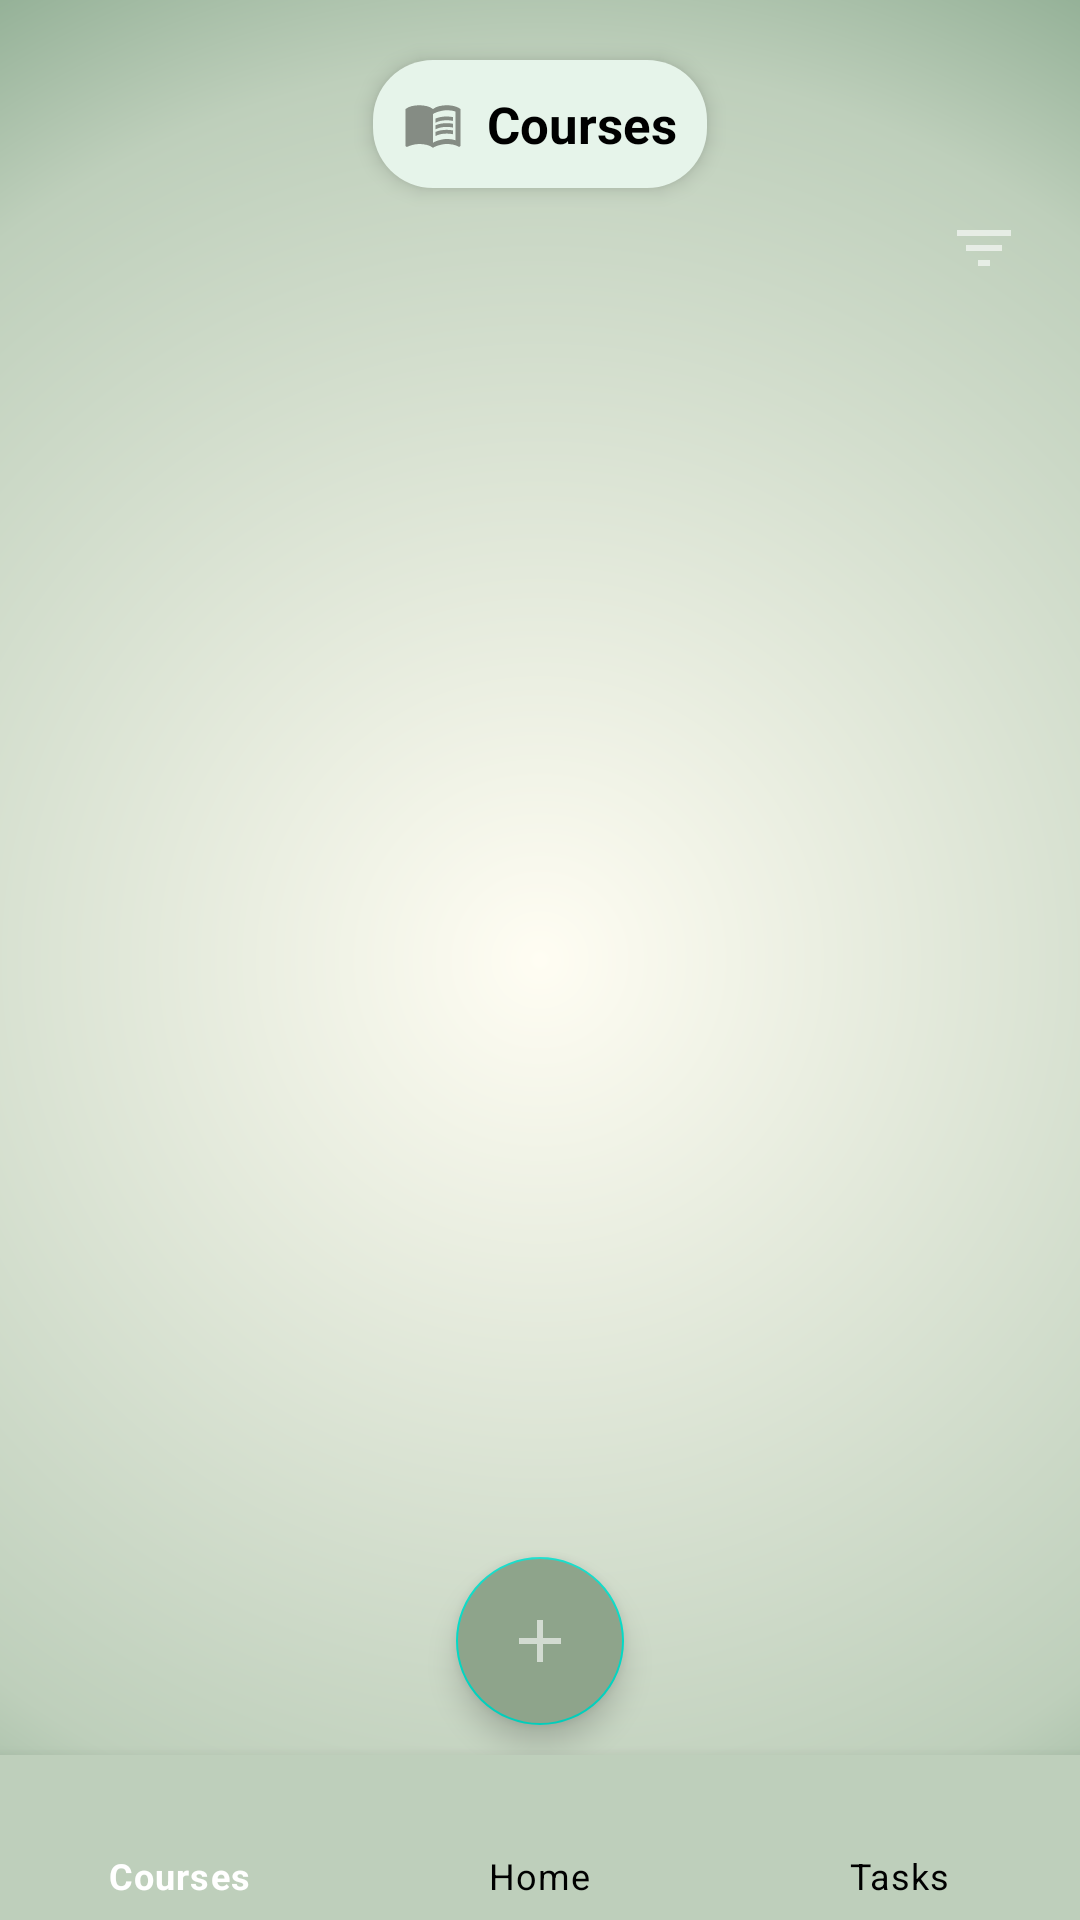

Where to tap for icons on this 1080×1920 app screen, as point (x, y):
add something: point (540, 1641)
filter: point (984, 248)
